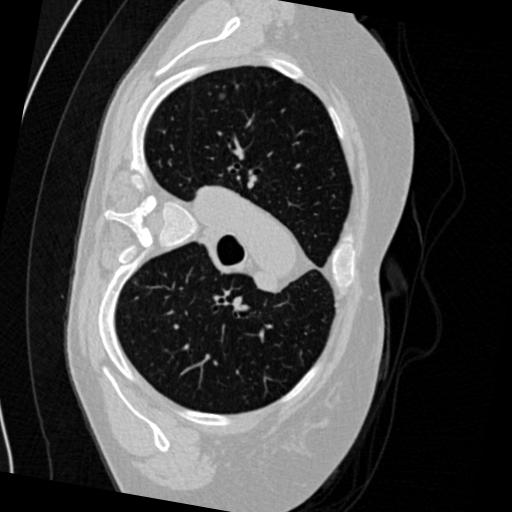nodule: (216, 92, 230, 106)
